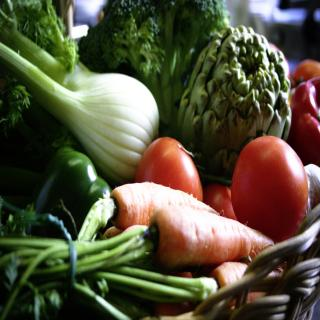tomato: (231, 131, 310, 242), (133, 135, 205, 201)
